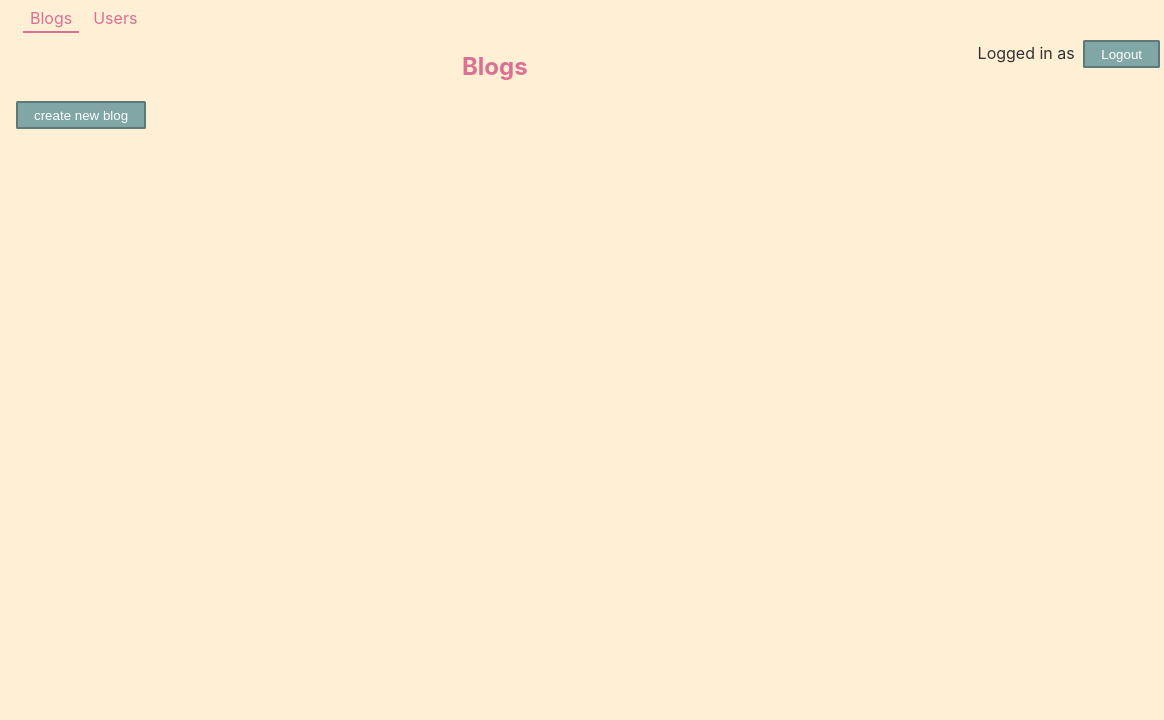
Blog app › When logged in › A blog can be created
Step 1. Click the button "create new blog" → click(81, 115), box top-left (16, 101), bottom-right (146, 129)
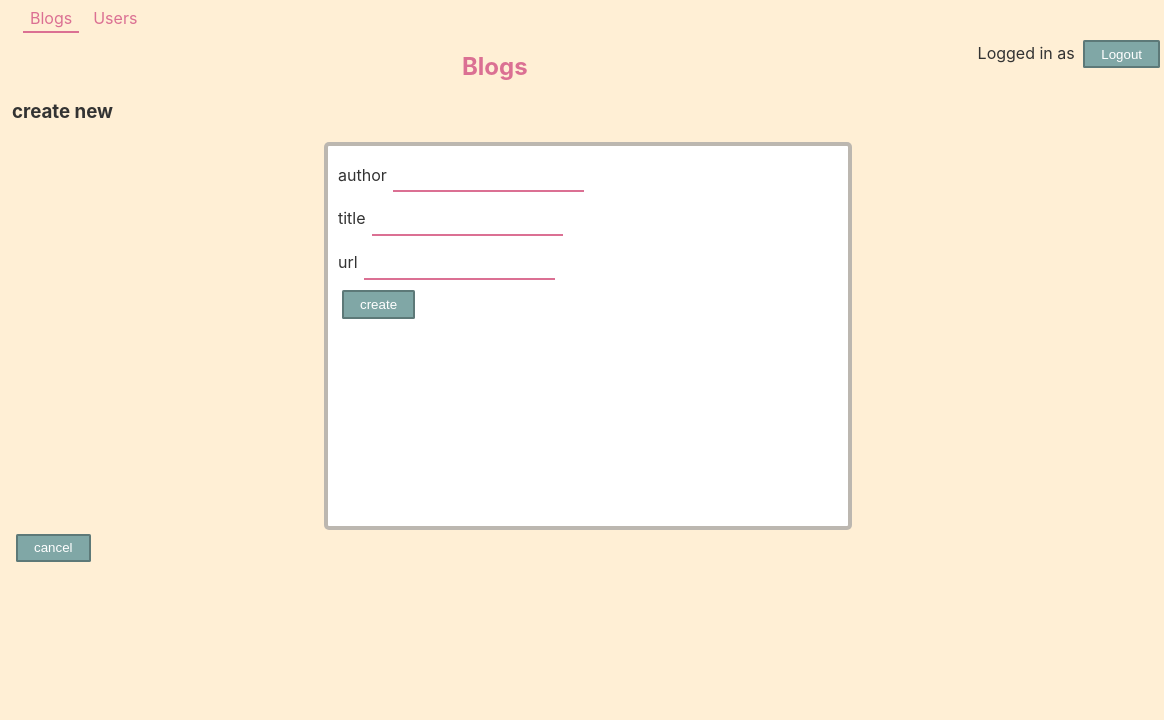
Step 2. Type "Gleb Bahmutov" into the field with id "author" → (488, 177), box top-left (393, 162), bottom-right (583, 192)
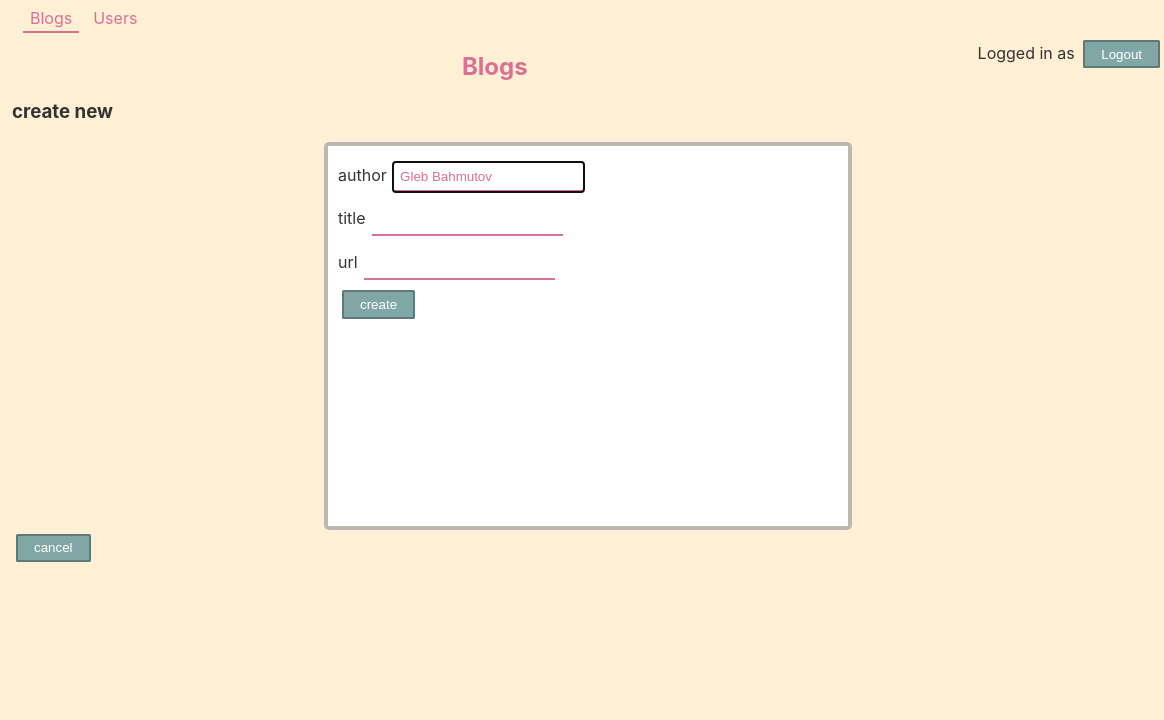
Step 3. Type "Readable Cypress.io tests" into the field with id "title" → (467, 221), box top-left (372, 206), bottom-right (562, 236)
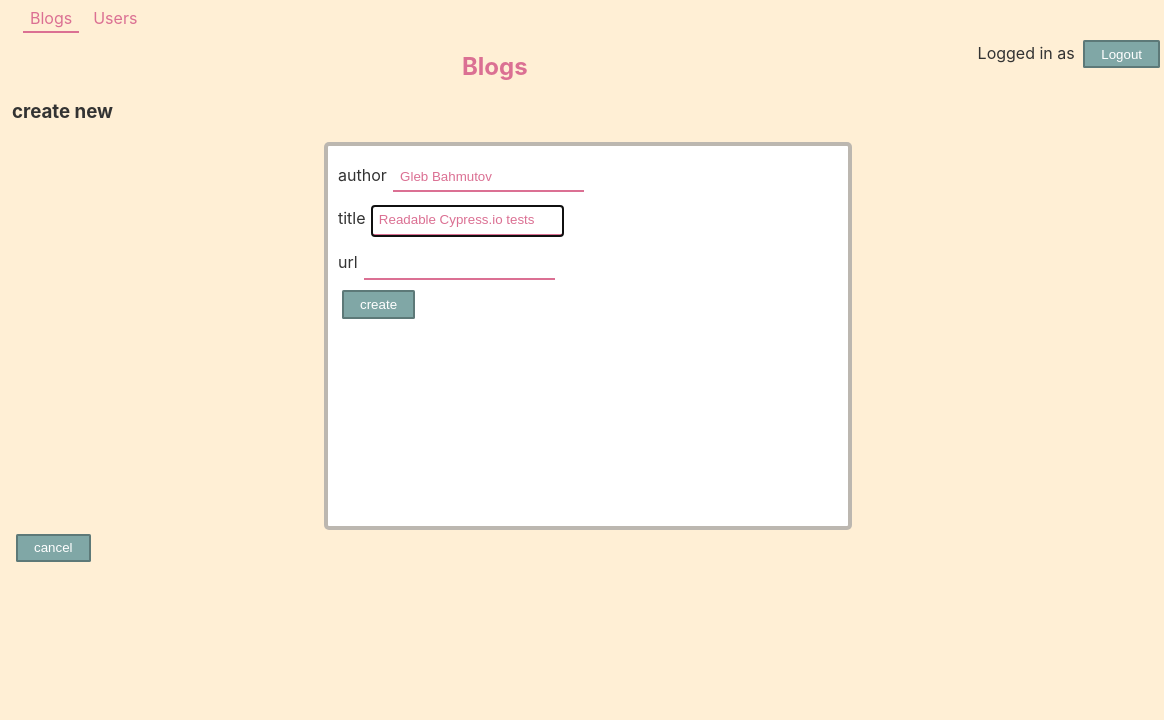
Step 4. Type "https://glebbahmutov.com/blog/readable-tests/" into the field with id "url" → (459, 264), box top-left (364, 249), bottom-right (554, 279)
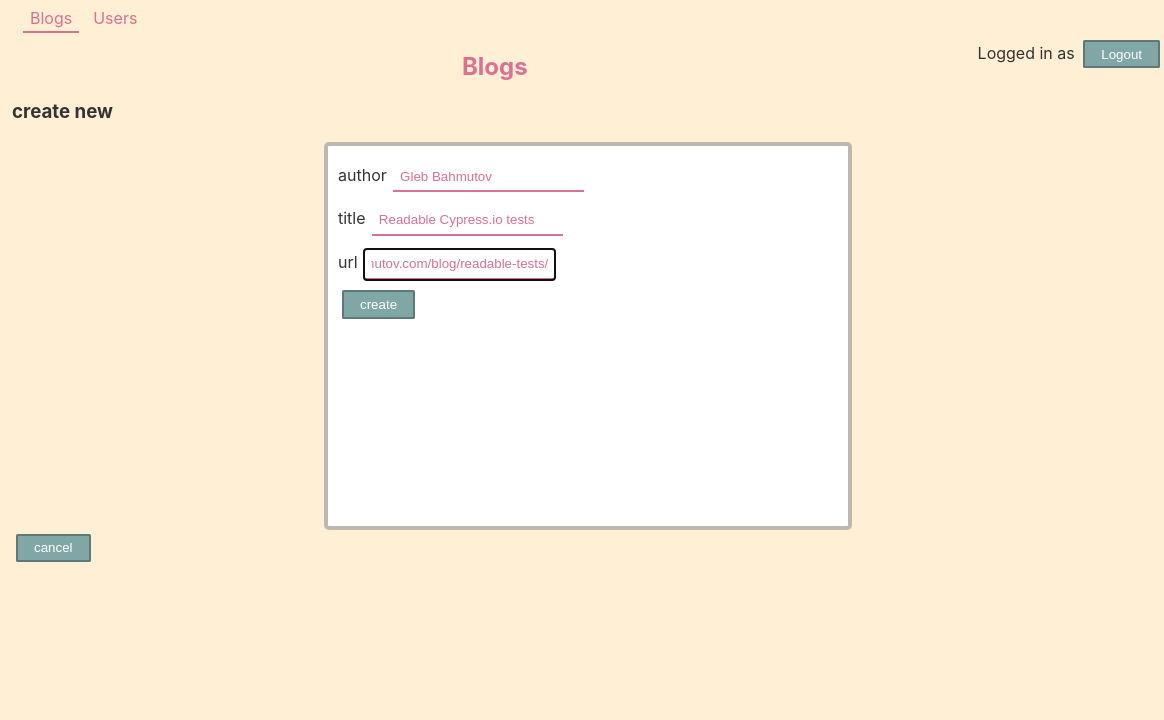
Step 5. Click the button with id "create" → click(379, 304), box top-left (342, 290), bottom-right (415, 318)
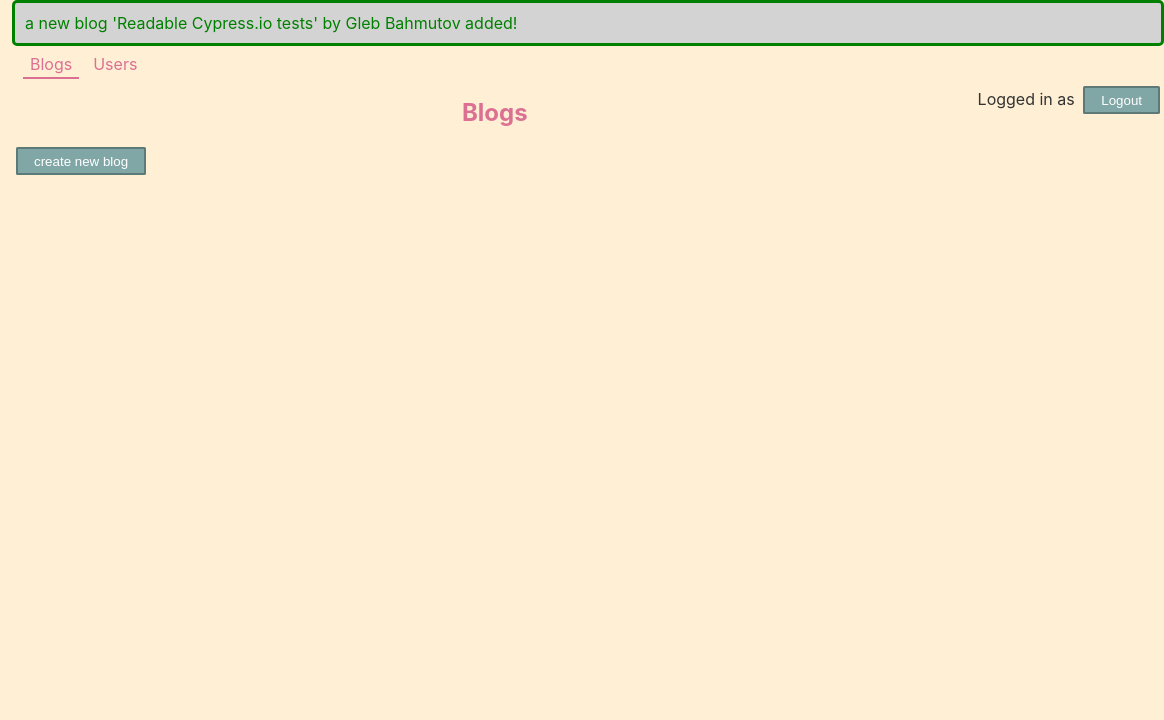
Check: the text "Gleb Bahmutov" is shown, box top-left (25, 13), bottom-right (517, 33)
